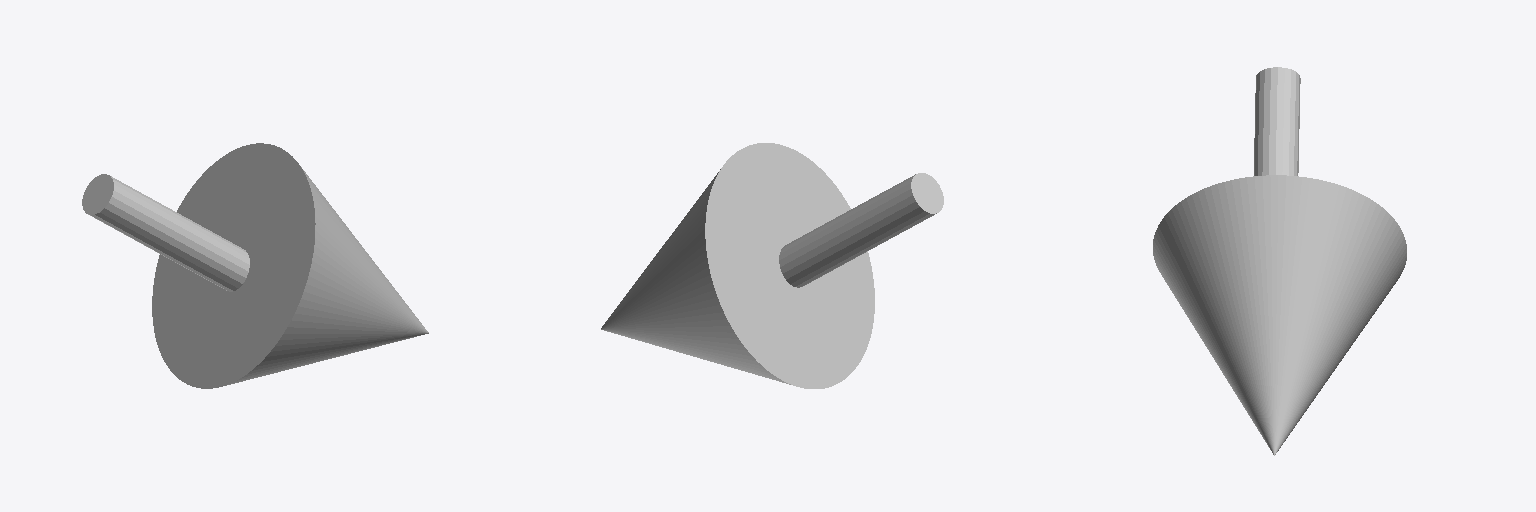
File: left_arm.obj
The picture shows the model from 3 angles: view 1: azimuth 30°, elevation 25°; view 2: azimuth 150°, elevation 25°; view 3: azimuth 270°, elevation 25°; orthographic projection.
Parts seen in each view (by area): view 1: left_arm2, left_arm; view 2: left_arm2, left_arm; view 3: left_arm2, left_arm.
Part boxes in pixels (left/top/right/bottom): left_arm2: left=152, top=143, right=428, bottom=388; left_arm: left=82, top=174, right=249, bottom=291; left_arm2: left=601, top=143, right=874, bottom=388; left_arm: left=779, top=173, right=943, bottom=287; left_arm2: left=1153, top=175, right=1406, bottom=455; left_arm: left=1254, top=67, right=1300, bottom=175.
Size of the model in its own units: 3.09 by 2.03 by 2.